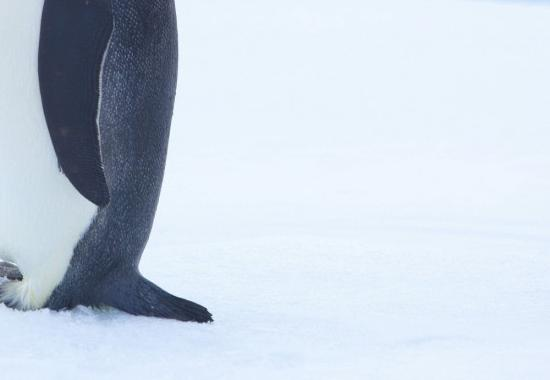Emperor Penguin: (0, 0, 288, 367)
